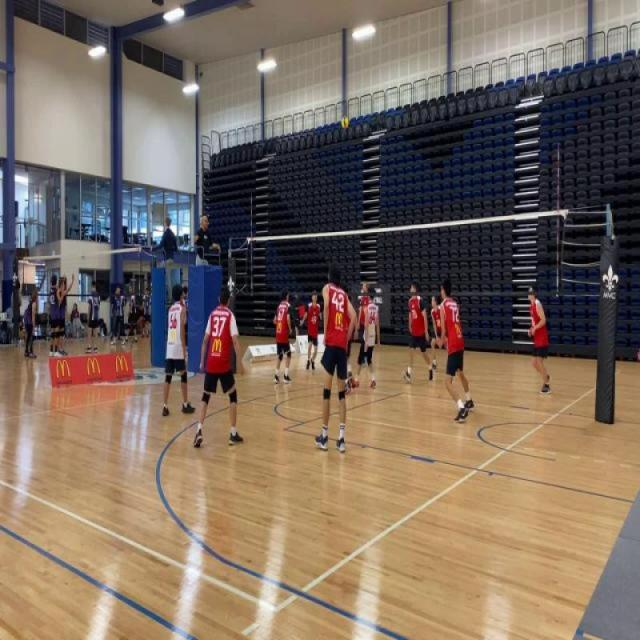volleyball: (340, 115, 351, 131)
